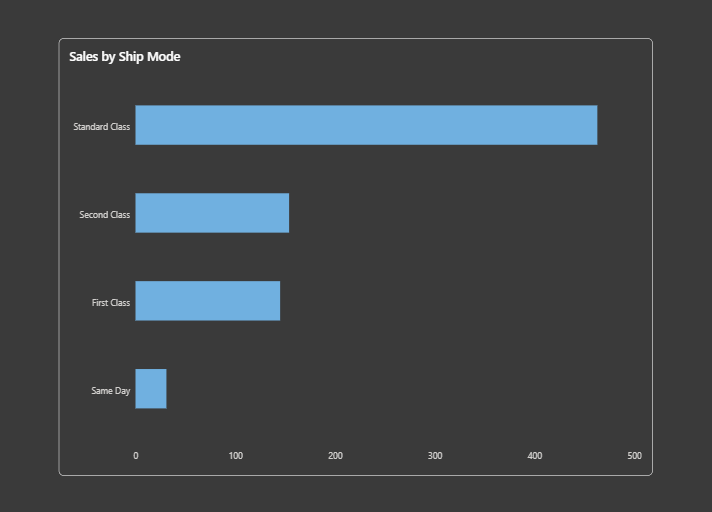

The dashboard page shown, as its layout file describes it:
{"tool":"powerbi","page":{"name":"Sales by Ship Mode","canvas":[1920,1080],"ordinal":3},"visuals":[{"type":"barChart","title":"Sales by Ship Mode","fields":{"Category":["Sample - Superstore.Ship Mode"],"Y":["CountNonNull(Sample - Superstore.Product ID)"]},"box":[10.8,0,950.1,699],"z":0}]}

Visuals, with their boxes on the page's 1920x1080 design canvas (x1, y1, x2, y2). These are canvas units, not pixel positions in the 712x512 screenshot, which may show the page scaled, cropped or inside an application window:
"Sales by Ship Mode" barChart: crop(11, 0, 961, 699)
